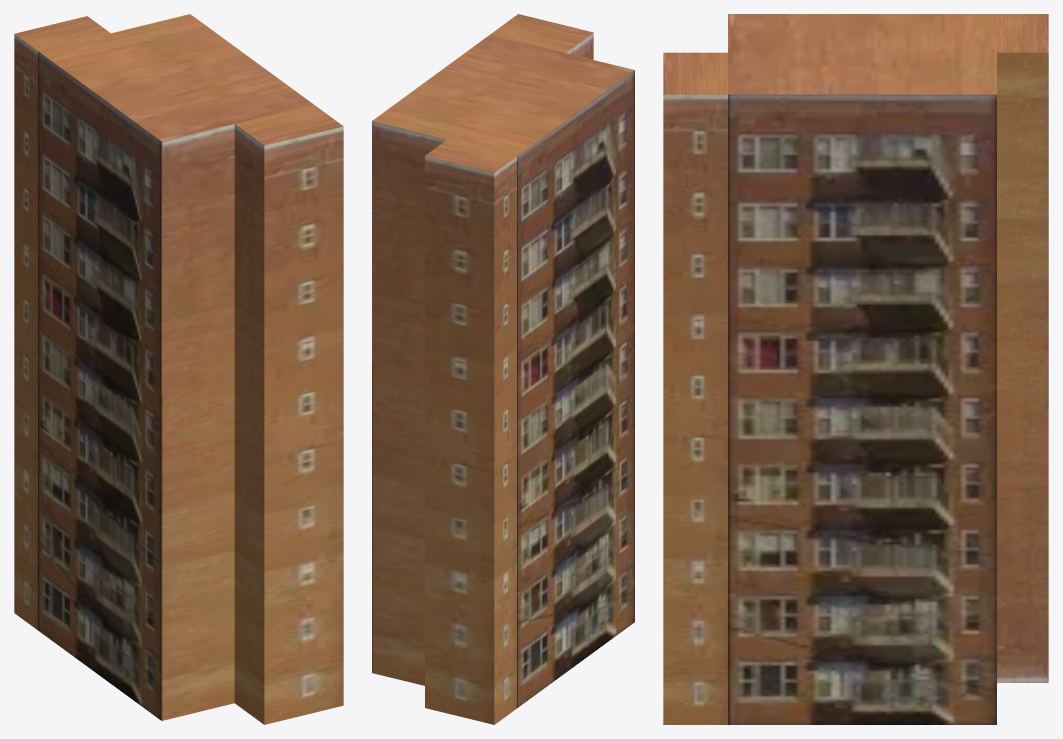
3 renders of one model, left to right at view 1: azimuth 30°, elevation 25°; view 2: azimuth 150°, elevation 25°; view 3: azimuth 270°, elevation 25°, orthographic. The views are drawn at different scales.
Parts seen in each view (by area): view 1: ny-low-4; view 2: ny-low-4; view 3: ny-low-4.
Boxes of the visible parts, left/top/right/bottom form: ny-low-4: left=14, top=14, right=343, bottom=724; ny-low-4: left=372, top=14, right=634, bottom=724; ny-low-4: left=663, top=14, right=1048, bottom=724.
Size of the model in its own units: 27.82 by 101 by 56.07.
1 material, 1 textured.
